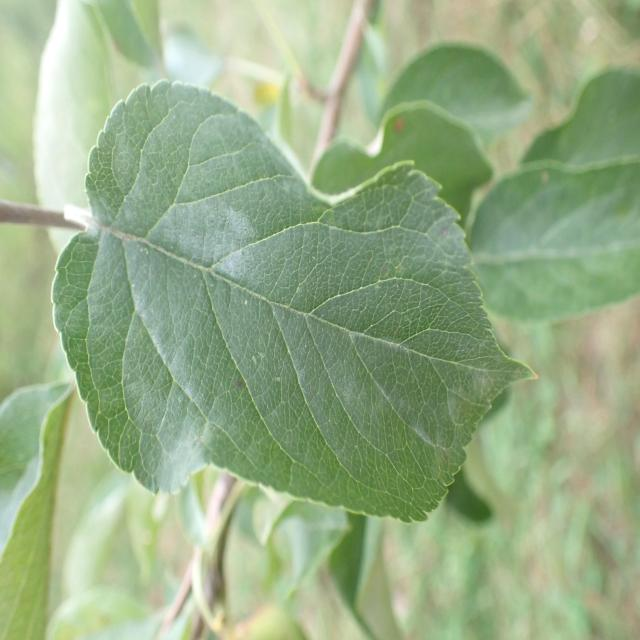Powdery_mildew: (49, 74, 514, 531)
